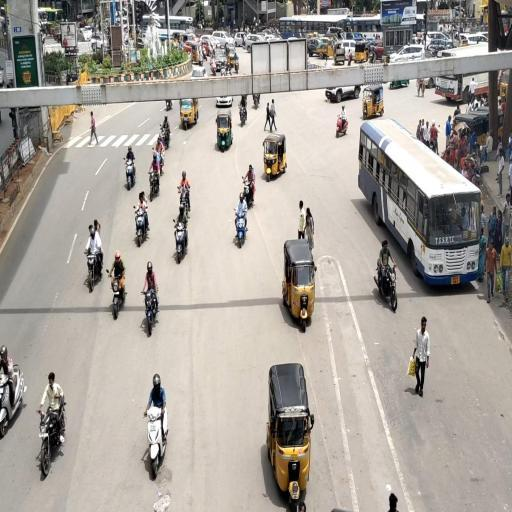helmet: (147, 373, 171, 476), (140, 258, 166, 339), (86, 218, 104, 246)
no helmet: (373, 235, 413, 318), (42, 366, 70, 474)
